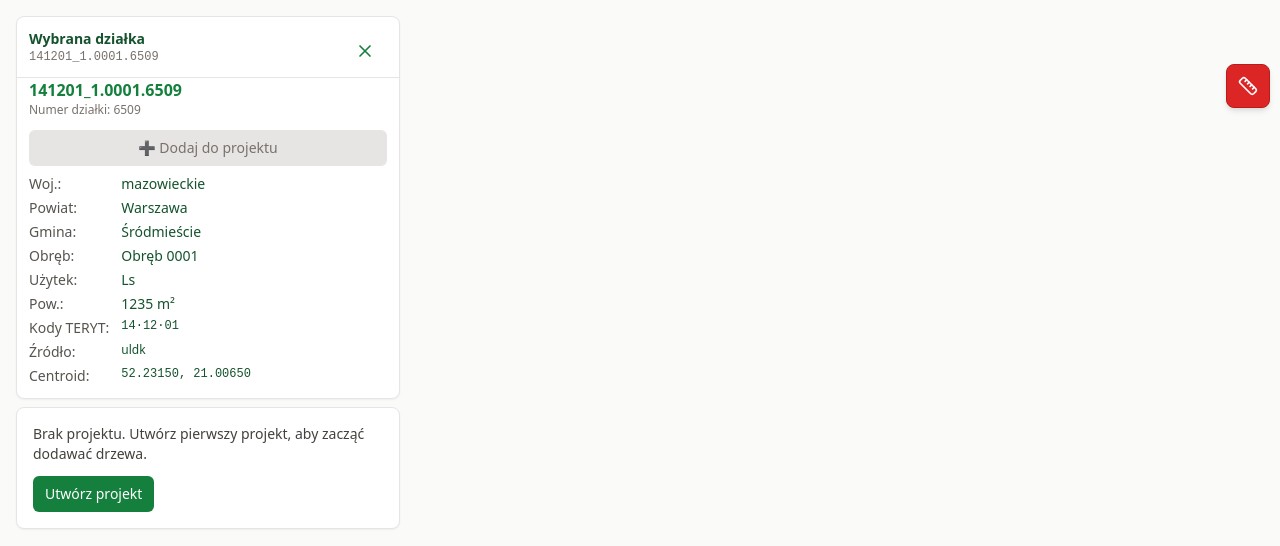
it: MapPage › should close the parcel card when close is clicked
The image size is (1280, 546).
What coordinates should you click on to do the following:
click the button with test id "parcel-card-close"
I would click on:
 (365, 51)
Its box is [343,29,387,73].
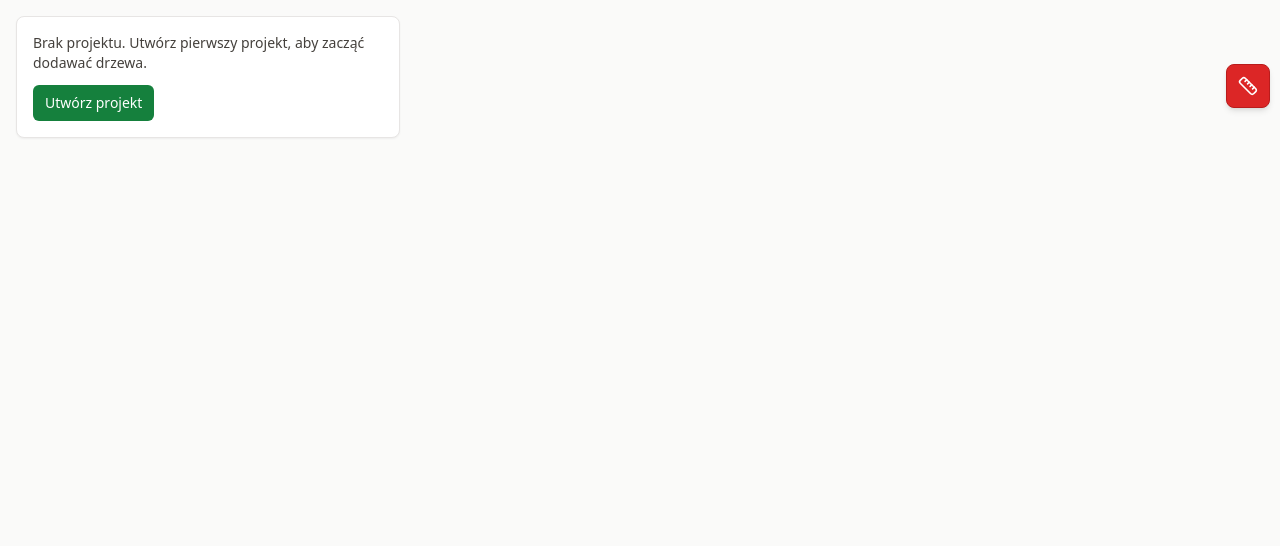
Expected: the element with test id "parcel-card" is gone
